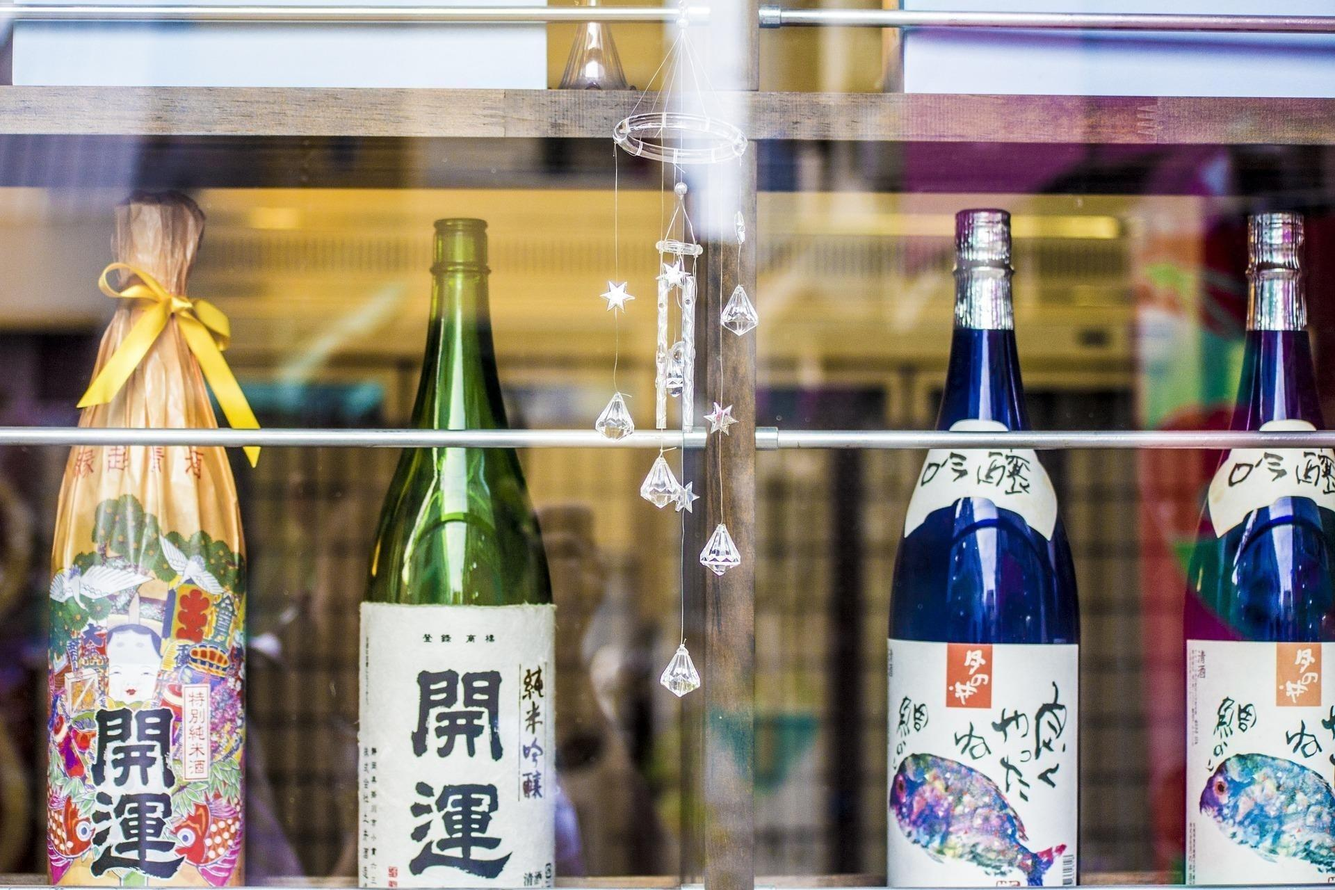bottle-glass: (41, 190, 256, 889), (878, 204, 1085, 889), (353, 211, 561, 889), (1179, 205, 1334, 889)
